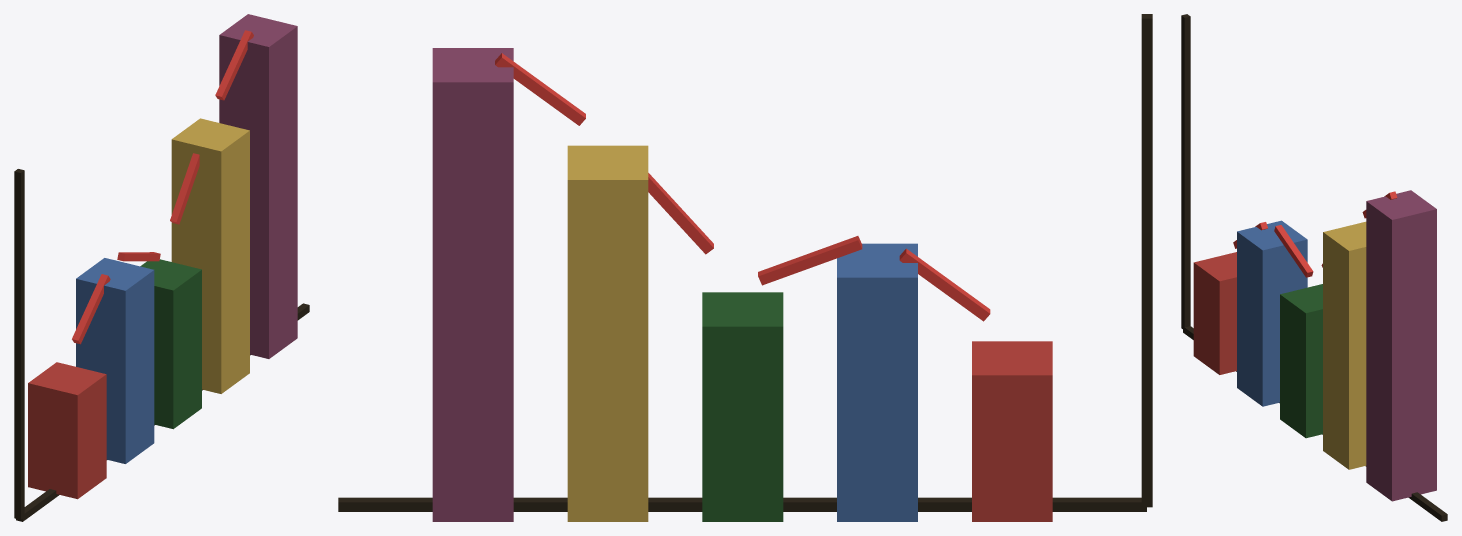
File: chart.glb
3 renders of one model, left to right at view 1: azimuth 30°, elevation 25°; view 2: azimuth 150°, elevation 25°; view 3: azimuth 270°, elevation 25°, orthographic. The views are drawn at different scales.
Bounding box in the file's own units: 1.32 × 1.01 × 0.7723.
